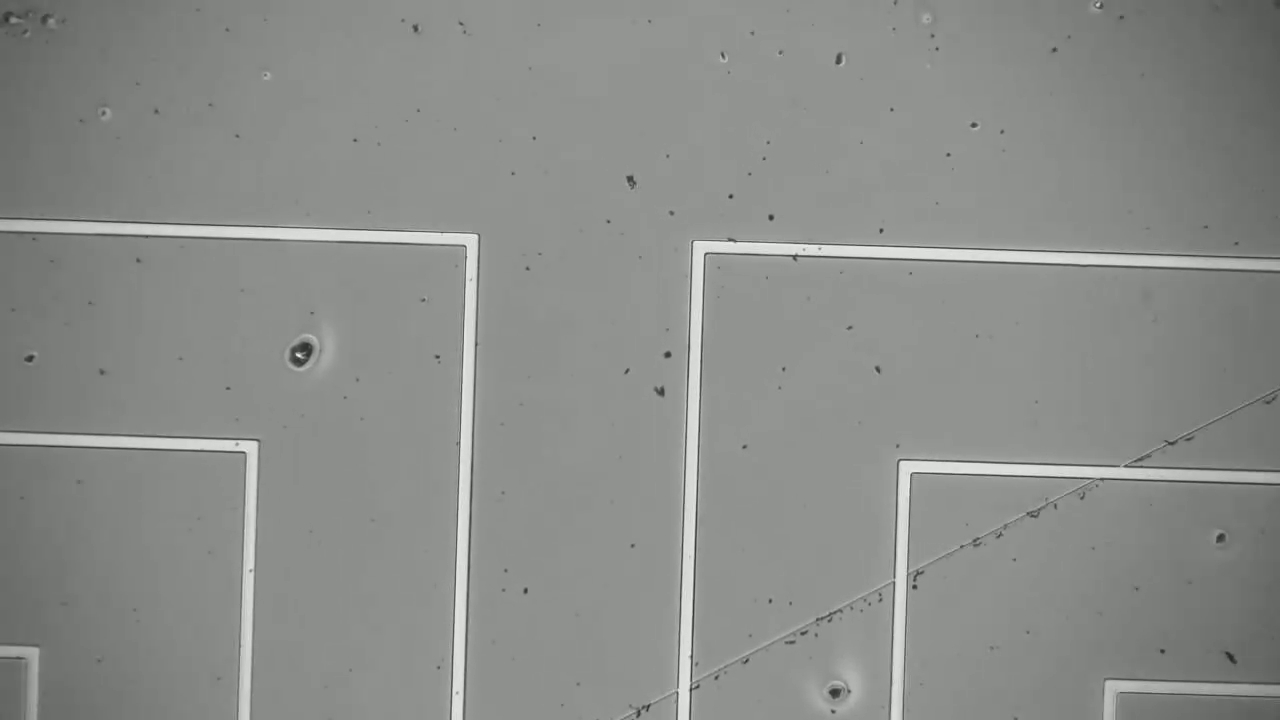scratch: (641, 387, 1272, 715)
